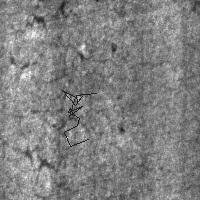crazing: (9, 31, 137, 100), (12, 104, 95, 186), (62, 90, 96, 146)
